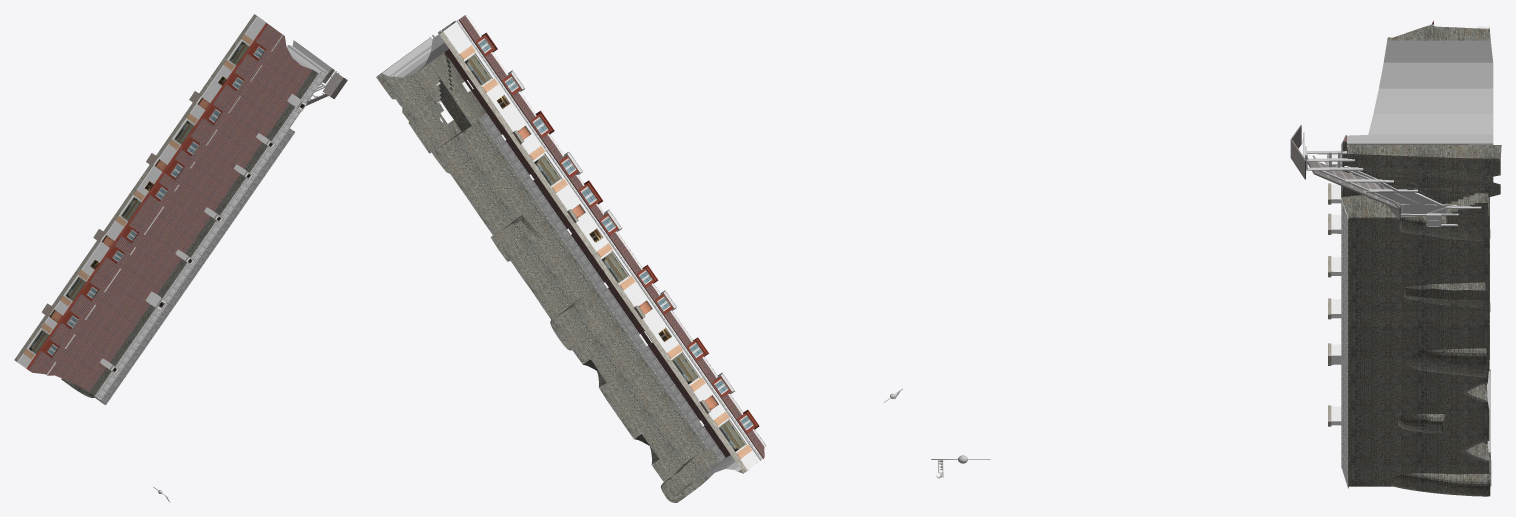
Rendered from Suurtyki_4c_2.obj.
3 views of the same model, side by side, from view 1: azimuth 30°, elevation 25°; view 2: azimuth 150°, elevation 25°; view 3: azimuth 270°, elevation 25° (orthographic). The views are drawn at different scales.
Visible parts, largest first — view 1: Suurtyki_4c_2; view 2: Suurtyki_4c_2; view 3: Suurtyki_4c_2.
Part boxes in pixels (box(x1,y1,x2,y2)): Suurtyki_4c_2: box(14, 14, 347, 502); Suurtyki_4c_2: box(376, 14, 902, 502); Suurtyki_4c_2: box(931, 20, 1501, 496).
Bounding box in the file's own units: 40.4 × 44.82 × 34.47.
